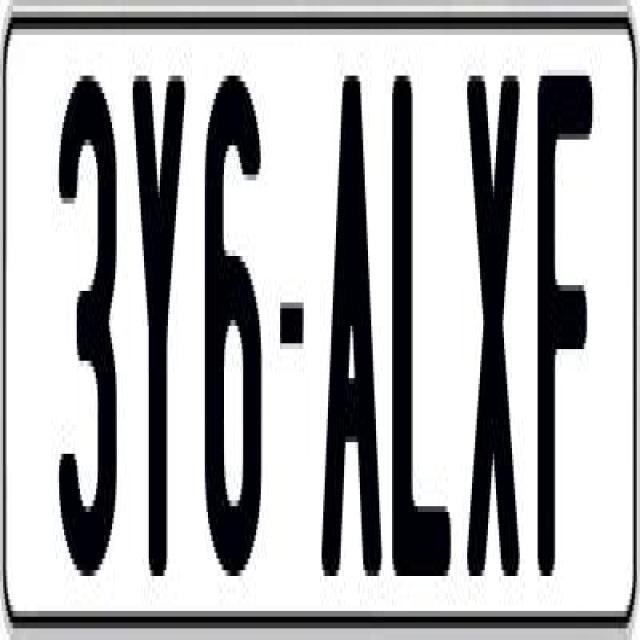3: (54, 70, 120, 606)
6: (202, 70, 260, 582)
A: (318, 70, 388, 594)
F: (536, 58, 600, 559)
L: (392, 75, 454, 606)
X: (467, 70, 522, 588)
Y: (131, 70, 186, 570)
